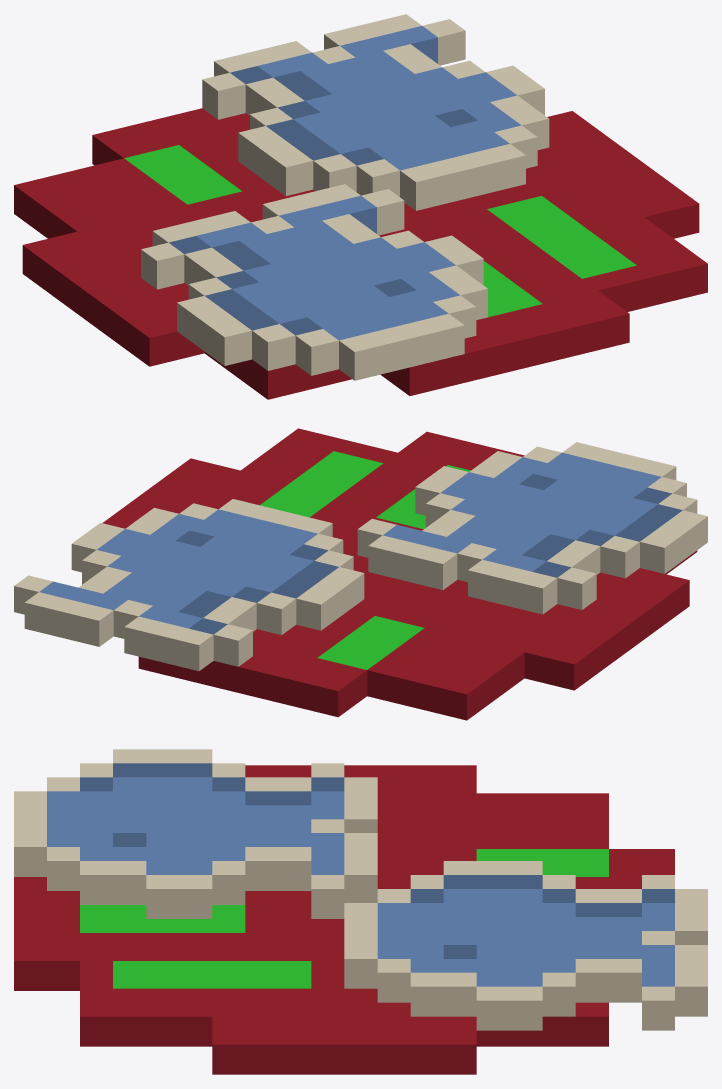
File: food.vox-3-z-steamed-fish.obj
3 views of the same model, one above another, from view 1: azimuth 30°, elevation 25°; view 2: azimuth 150°, elevation 25°; view 3: azimuth 270°, elevation 25° (orthographic). The views are drawn at different scales.
Visible parts, largest first — view 1: z-steamed-fish; view 2: z-steamed-fish; view 3: z-steamed-fish.
Boxes of the visible parts, x1,y1,x2,y2 form: z-steamed-fish: (14,14,707,399); z-steamed-fish: (14,428,707,720); z-steamed-fish: (14,749,707,1074).
Bounding box in the file's own units: 2 × 0.2 × 2.1.
Materials: 1 (1 with a texture image).
